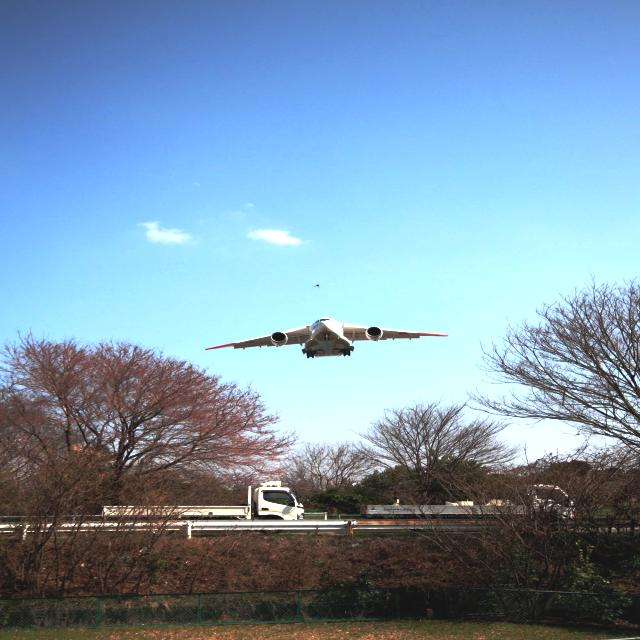Aircraft: (203, 316, 450, 358)
